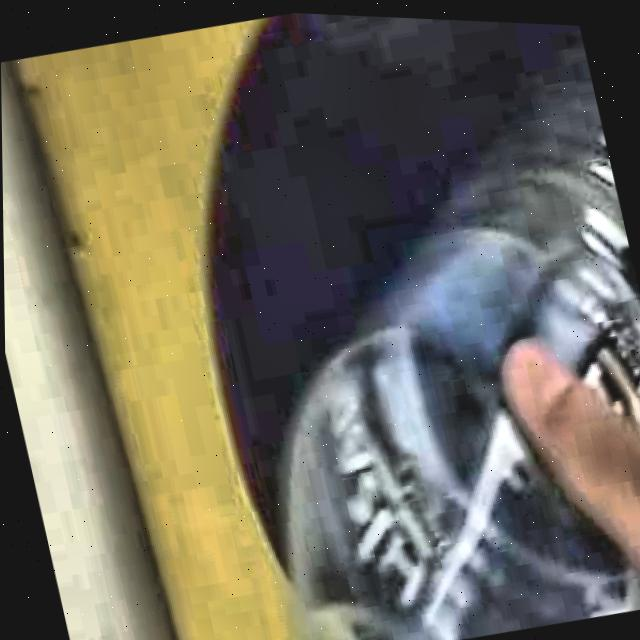plastic: (262, 67, 640, 640)
